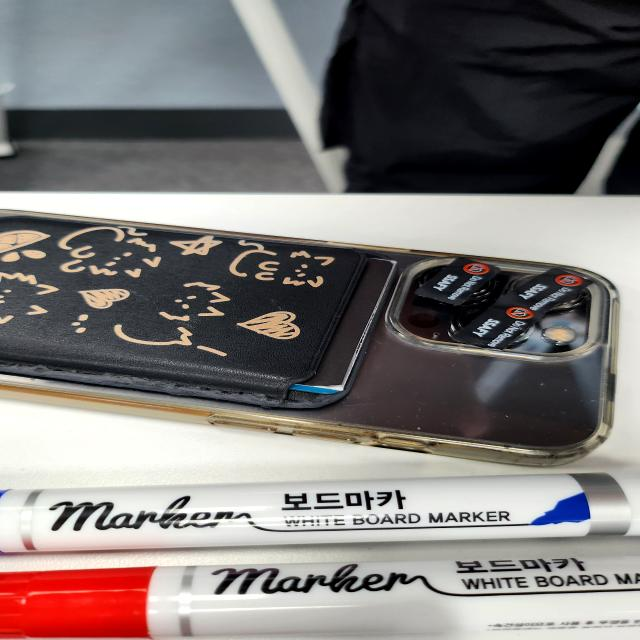phone: (0, 207, 618, 468)
sticker: (450, 299, 540, 350), (502, 265, 593, 313), (422, 253, 499, 307)
